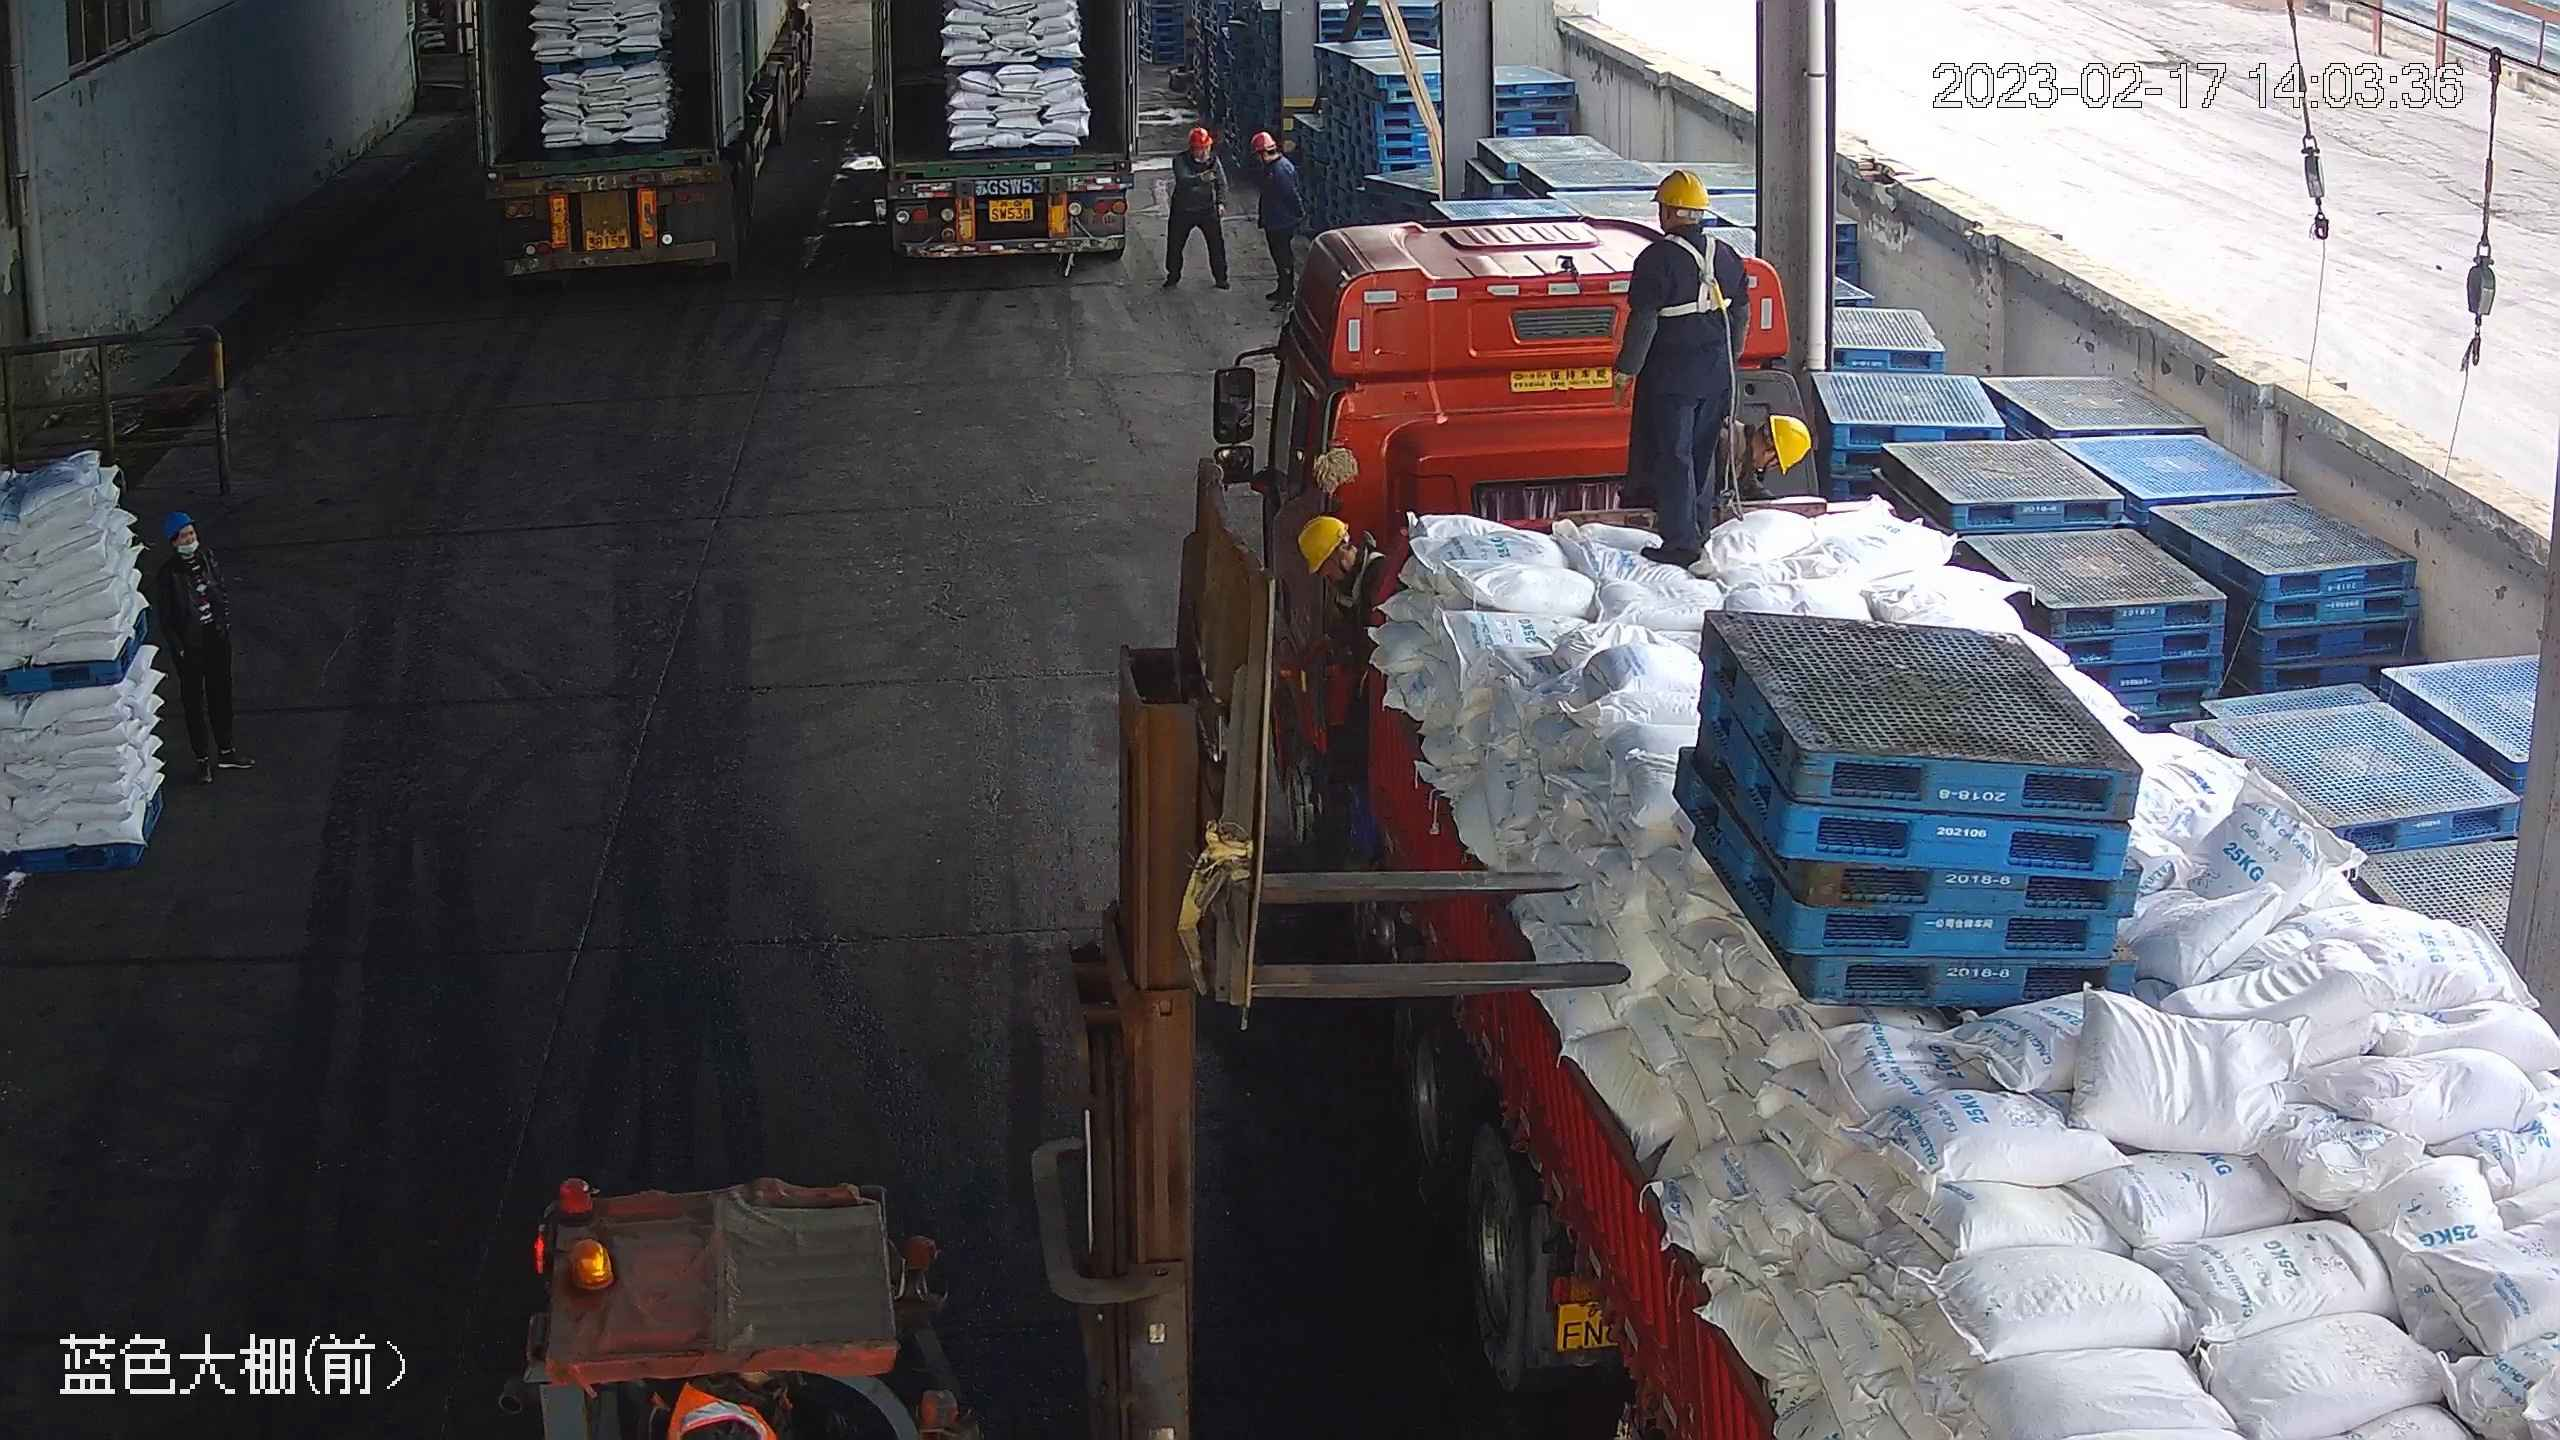belt: (1650, 229, 1732, 321)
head: (1624, 170, 1749, 287), (1717, 410, 1815, 490), (159, 514, 222, 603), (1248, 127, 1304, 190), (1170, 125, 1224, 184)
helmet: (1294, 513, 1348, 576), (1764, 411, 1814, 473), (1651, 169, 1711, 211), (159, 512, 197, 543), (1184, 124, 1212, 148), (1248, 131, 1277, 154)
people: (1613, 169, 1744, 570), (157, 510, 249, 781), (1157, 121, 1232, 294), (1247, 125, 1301, 302)
truck: (1242, 178, 2556, 1440), (845, 1, 1199, 279), (473, 1, 821, 282)
